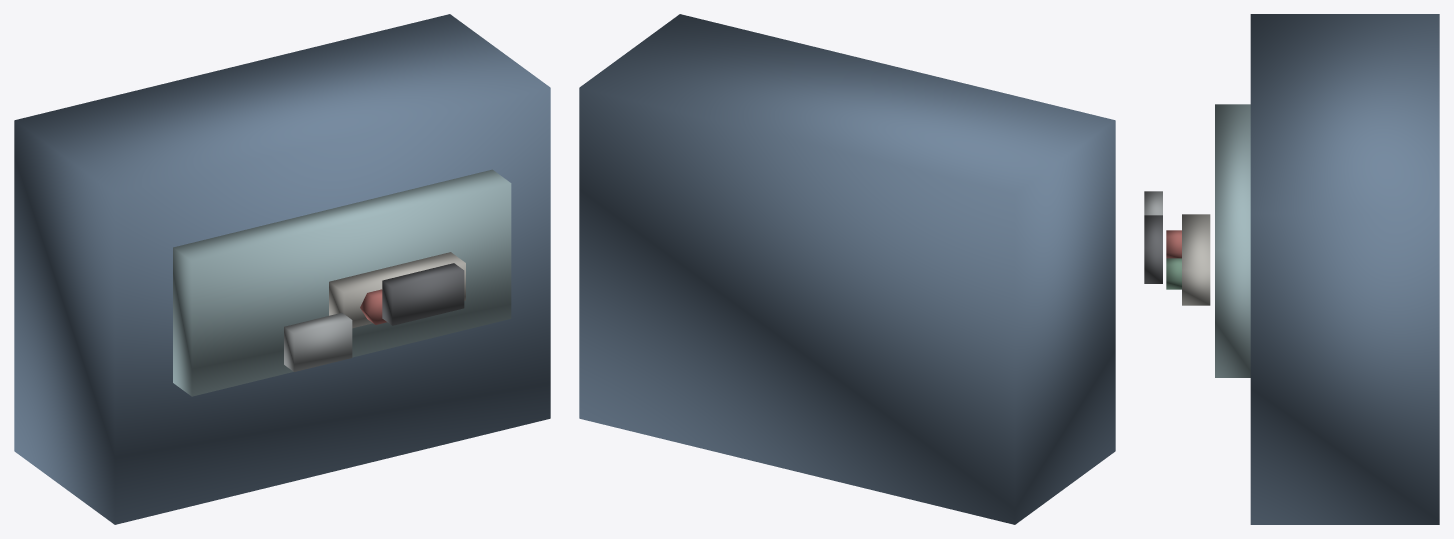
Rendered from price_checker__weathered.glb.
The picture shows the model from 3 angles, left to right: view 1: azimuth 30°, elevation 25°; view 2: azimuth 150°, elevation 25°; view 3: azimuth 270°, elevation 25°; orthographic projection. The views are drawn at different scales.
Visible parts, largest first — view 1: world; view 2: world; view 3: world.
Boxes of the visible parts, <box> form: world: <box>14,14,550,524</box>; world: <box>579,14,1115,524</box>; world: <box>1144,14,1439,524</box>.
Bounding box in the file's own units: 0.3 × 0.2178 × 0.1875.
